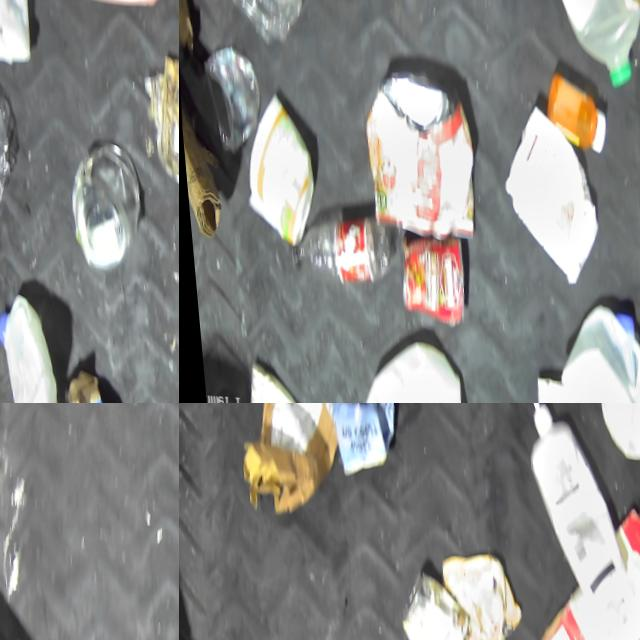can: (387, 228, 458, 322), (390, 559, 467, 640)
milk_jug: (487, 99, 596, 281), (541, 295, 640, 403), (525, 0, 640, 87), (341, 334, 455, 403)
plastic_bottle: (276, 207, 383, 283)
